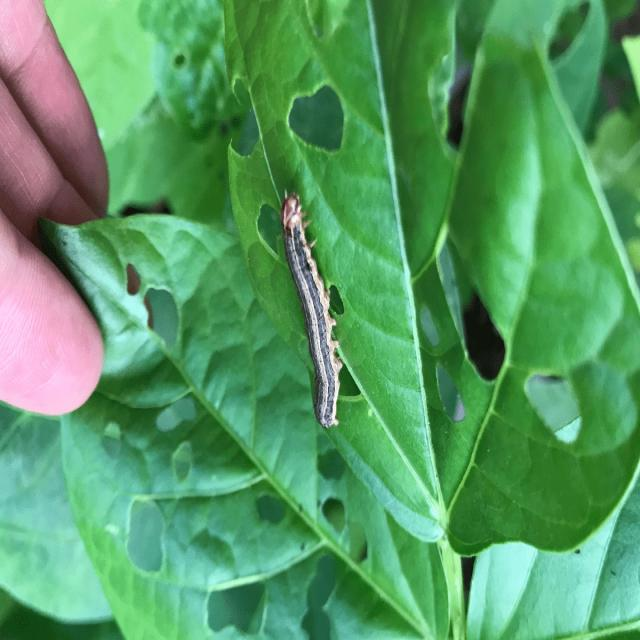armyworm: (279, 189, 343, 429)
